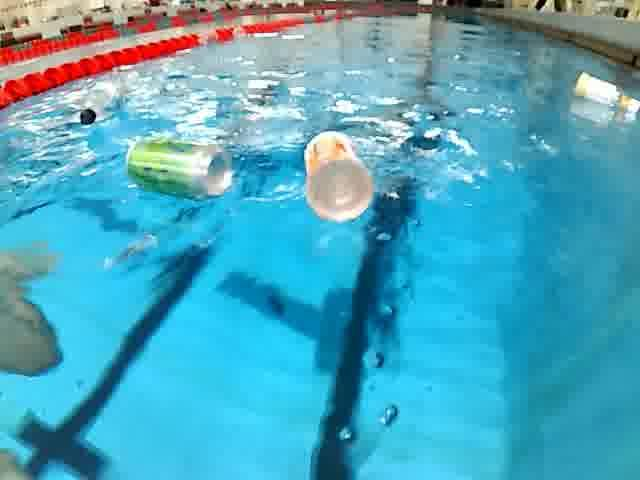Bottle: (294, 124, 380, 230), (73, 63, 143, 133), (567, 65, 640, 123)
Can: (115, 132, 241, 206)
